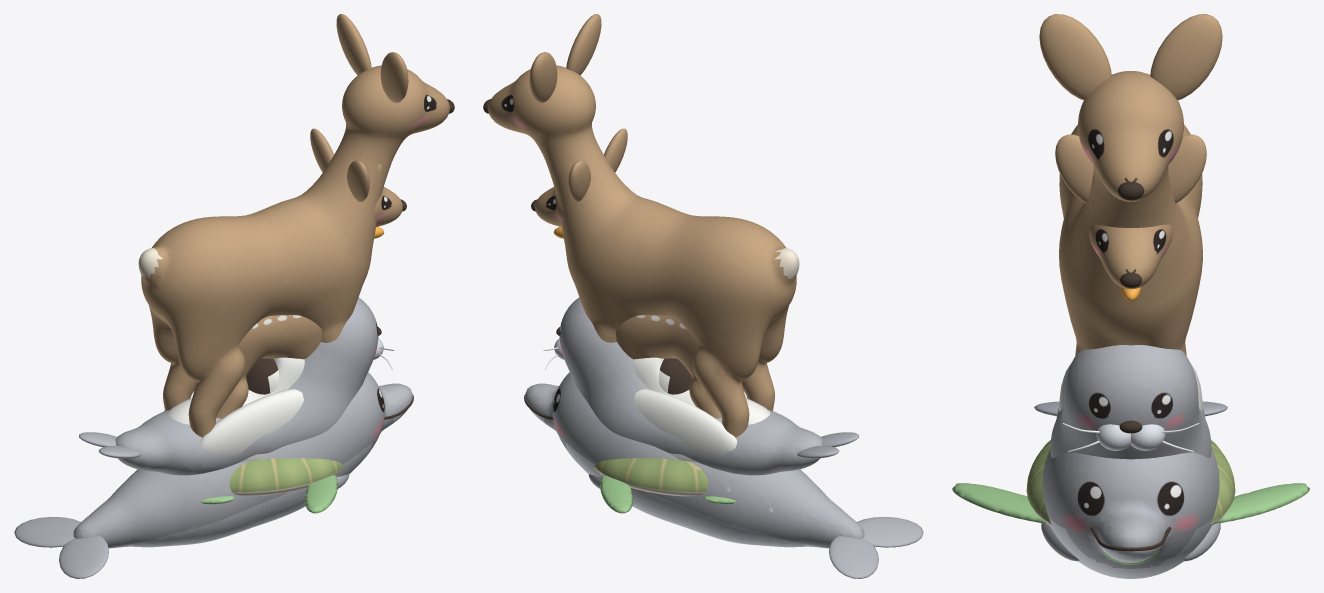
The model's file is SM_InteriorCritters.fbx.
3 renders of one model, left to right at view 1: azimuth 30°, elevation 25°; view 2: azimuth 150°, elevation 25°; view 3: azimuth 270°, elevation 25°, orthographic. The views are drawn at different scales.
Visible parts, largest first — view 1: Critter_Deer, Critter_Dolphin, Critter_Seal, Critter_Fawn, Critter_Turtle, Critter_Swan, Critter_Puffin, Critter_Bunny; view 2: Critter_Deer, Critter_Dolphin, Critter_Seal, Critter_Fawn, Critter_Turtle, Critter_Swan, Critter_Puffin, Critter_Bunny; view 3: Critter_Deer, Critter_Dolphin, Critter_Seal, Critter_Fawn, Critter_Turtle, Critter_Swan.
Boxes of the visible parts, left/top/right/bottom form: Critter_Deer: left=138, top=14, right=454, bottom=437; Critter_Dolphin: left=14, top=372, right=413, bottom=578; Critter_Seal: left=79, top=297, right=394, bottom=475; Critter_Fawn: left=195, top=128, right=406, bottom=418; Critter_Turtle: left=200, top=432, right=380, bottom=513; Critter_Swan: left=164, top=227, right=384, bottom=462; Critter_Puffin: left=246, top=358, right=278, bottom=394; Critter_Bunny: left=242, top=357, right=304, bottom=406; Critter_Deer: left=483, top=14, right=799, bottom=437; Critter_Dolphin: left=524, top=372, right=923, bottom=578; Critter_Seal: left=543, top=297, right=858, bottom=475; Critter_Fawn: left=531, top=128, right=742, bottom=418; Critter_Turtle: left=557, top=432, right=737, bottom=513; Critter_Swan: left=553, top=227, right=773, bottom=462; Critter_Puffin: left=659, top=358, right=691, bottom=394; Critter_Bunny: left=633, top=357, right=695, bottom=406; Critter_Deer: left=1039, top=14, right=1222, bottom=355; Critter_Dolphin: left=1034, top=401, right=1227, bottom=578; Critter_Seal: left=1050, top=345, right=1211, bottom=459; Critter_Fawn: left=1055, top=134, right=1206, bottom=289; Critter_Turtle: left=952, top=440, right=1309, bottom=564; Critter_Swan: left=1059, top=287, right=1202, bottom=411.
Bounding box in the file's own units: 1.47 × 1.58 × 0.8093.
